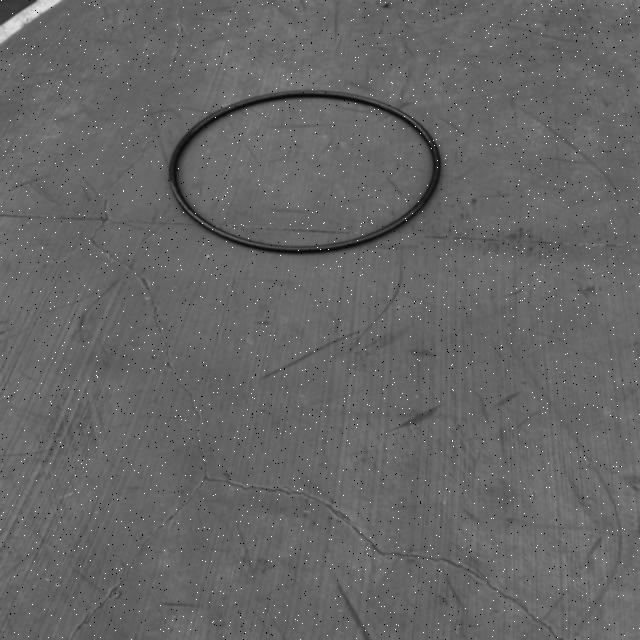Circle: (166, 89, 442, 254)
